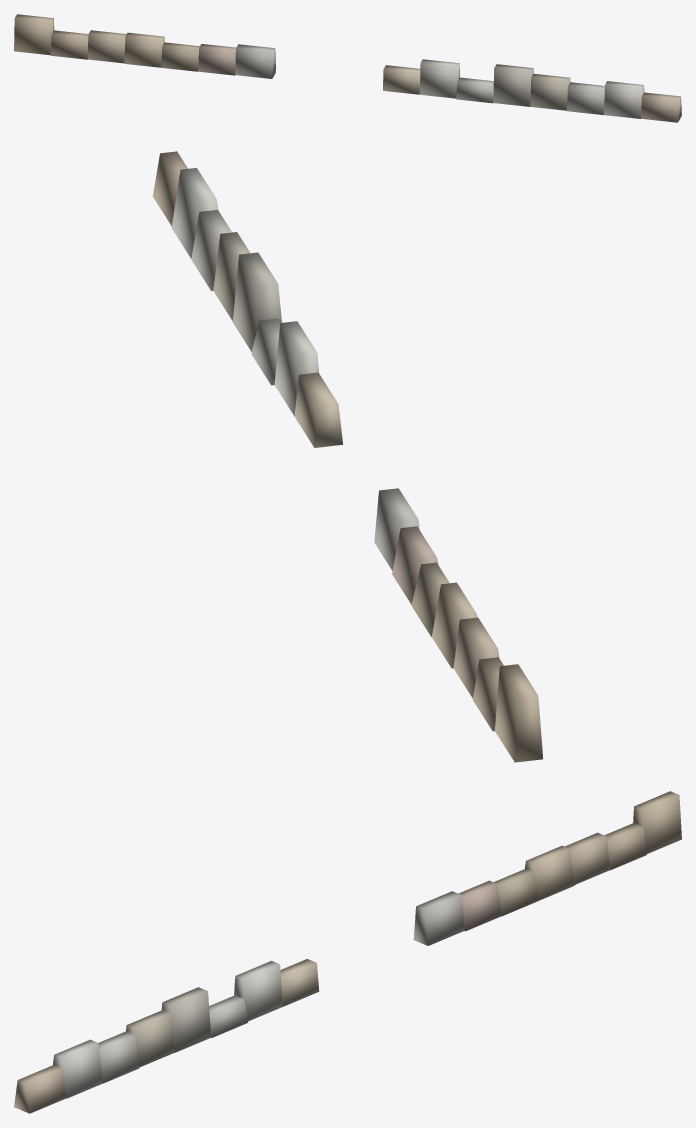
Rendered from farm_-43_-53_collision.glb.
3 renders of one model, top to bottom at view 1: azimuth 30°, elevation 25°; view 2: azimuth 150°, elevation 25°; view 3: azimuth 270°, elevation 25°, orthographic. The views are drawn at different scales.
Visible parts, largest first — view 1: geometry_0; view 2: geometry_0; view 3: geometry_0.
Boxes of the visible parts, <box> form: geometry_0: <box>14,14,681,122</box>; geometry_0: <box>152,151,543,762</box>; geometry_0: <box>14,791,681,1113</box>.
Size of the model in its own units: 19.86 by 1.58 by 19.72.
